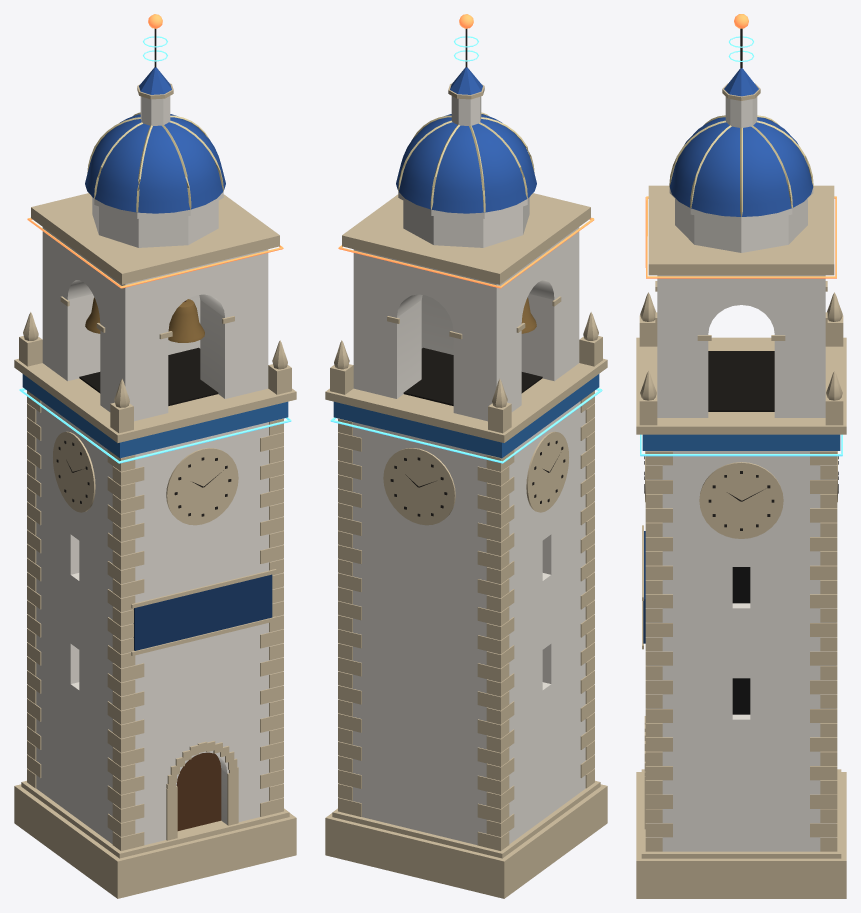
The picture shows the model from 3 angles, left to right: view 1: azimuth 30°, elevation 25°; view 2: azimuth 150°, elevation 25°; view 3: azimuth 270°, elevation 25°; orthographic projection.
Parts seen in each view (by area): view 1: tower.lod0; view 2: tower.lod0; view 3: tower.lod0.
Part boxes in pixels (x1,y1,x2,y2): tower.lod0: (14,14,296,898); tower.lod0: (325,14,607,898); tower.lod0: (636,14,846,898).
Bounding box in the file's own units: 6 × 26.42 × 6.
